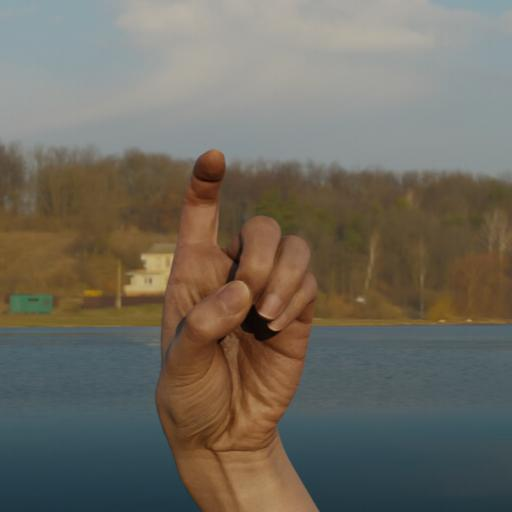X: (150, 140, 320, 454)
